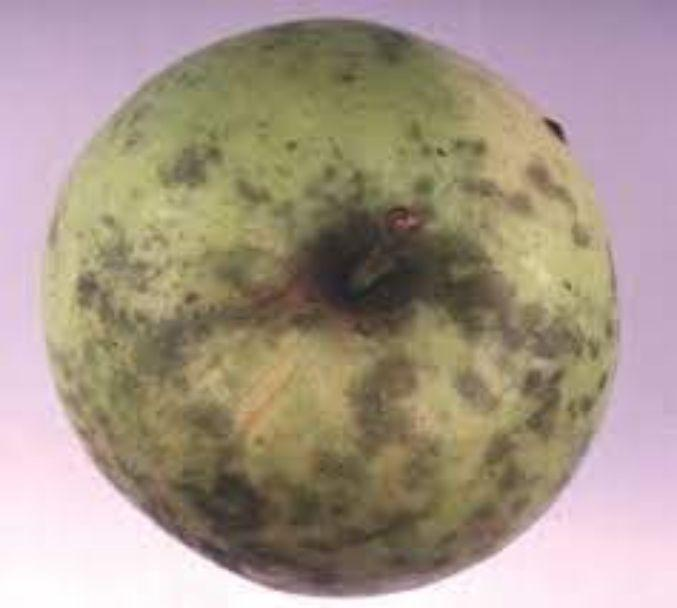BLOTCH: (26, 17, 629, 588)
